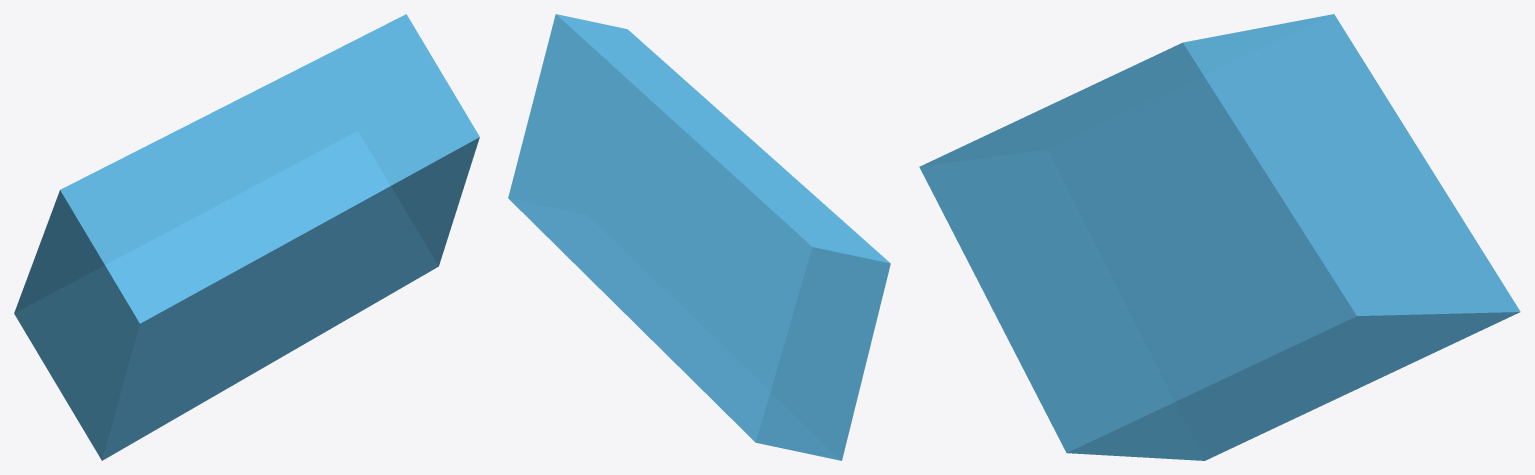
File: Event_421115418_HErechit_0.fbx
3 views of the same model, side by side, from view 1: azimuth 30°, elevation 25°; view 2: azimuth 150°, elevation 25°; view 3: azimuth 270°, elevation 25° (orthographic). The views are drawn at different scales.
Visible parts, largest first — view 1: Model; view 2: Model; view 3: Model.
Part boxes in pixels (x1,y1,x2,y2): Model: [14, 14, 479, 460]; Model: [508, 14, 890, 460]; Model: [919, 14, 1520, 460].
Size of the model in its own units: 0.9261 by 1.1 by 0.8837.
